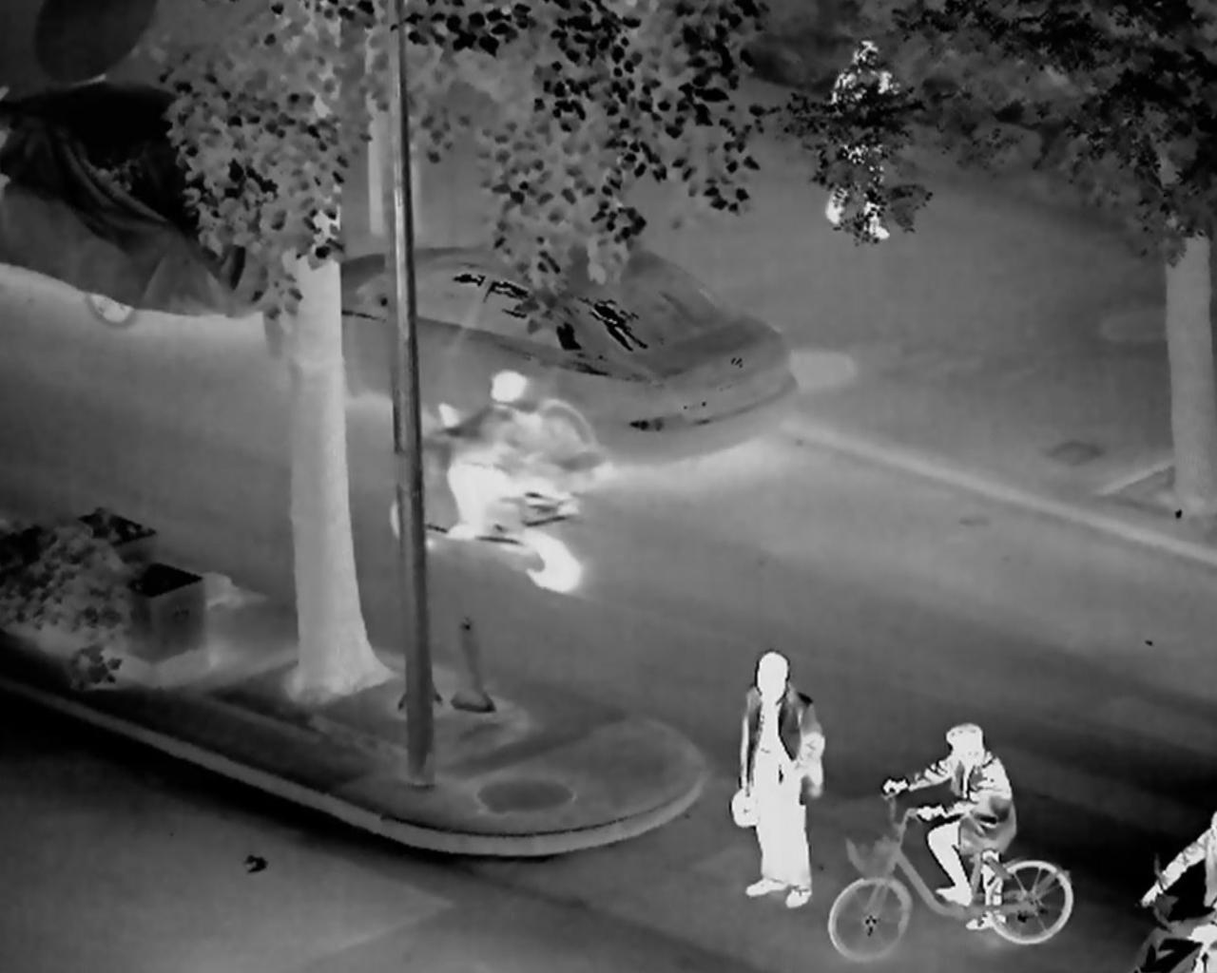person: (881, 723, 1020, 931), (731, 651, 824, 906), (436, 372, 559, 544), (818, 43, 901, 245), (1139, 808, 1217, 958)
